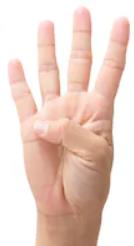right: (4, 3, 132, 219)
